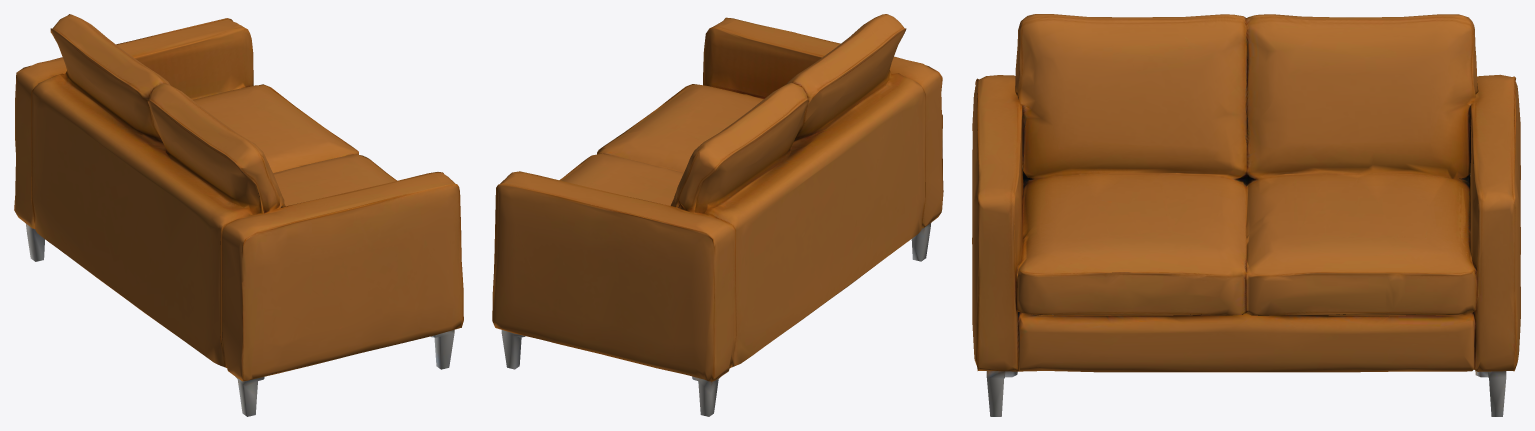
The model's file is sofaHospital.fbx.
3 views of the same model, side by side, from view 1: azimuth 30°, elevation 25°; view 2: azimuth 150°, elevation 25°; view 3: azimuth 270°, elevation 25° (orthographic). The views are drawn at different scales.
Visible parts, largest first — view 1: tripo_node_1c5c76f8; view 2: tripo_node_1c5c76f8; view 3: tripo_node_1c5c76f8.
Part boxes in pixels (x1,y1,x2,y2): tripo_node_1c5c76f8: (14,14,463,416); tripo_node_1c5c76f8: (492,14,943,416); tripo_node_1c5c76f8: (972,14,1520,416).
Bounding box in the file's own units: 0.5939 × 0.6001 × 0.9998.
Materials: 1 (1 with a texture image).
